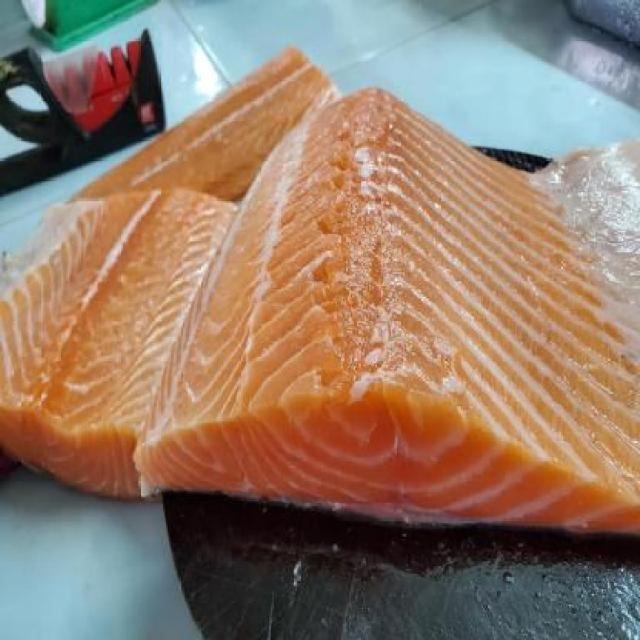salmon: (3, 81, 640, 582), (51, 46, 380, 291)
